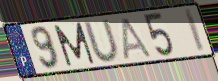5: (142, 11, 176, 58)
9: (30, 24, 62, 71)
A: (120, 16, 154, 61)
I: (183, 8, 208, 54)
M: (52, 21, 97, 68)
U: (82, 17, 123, 63)
